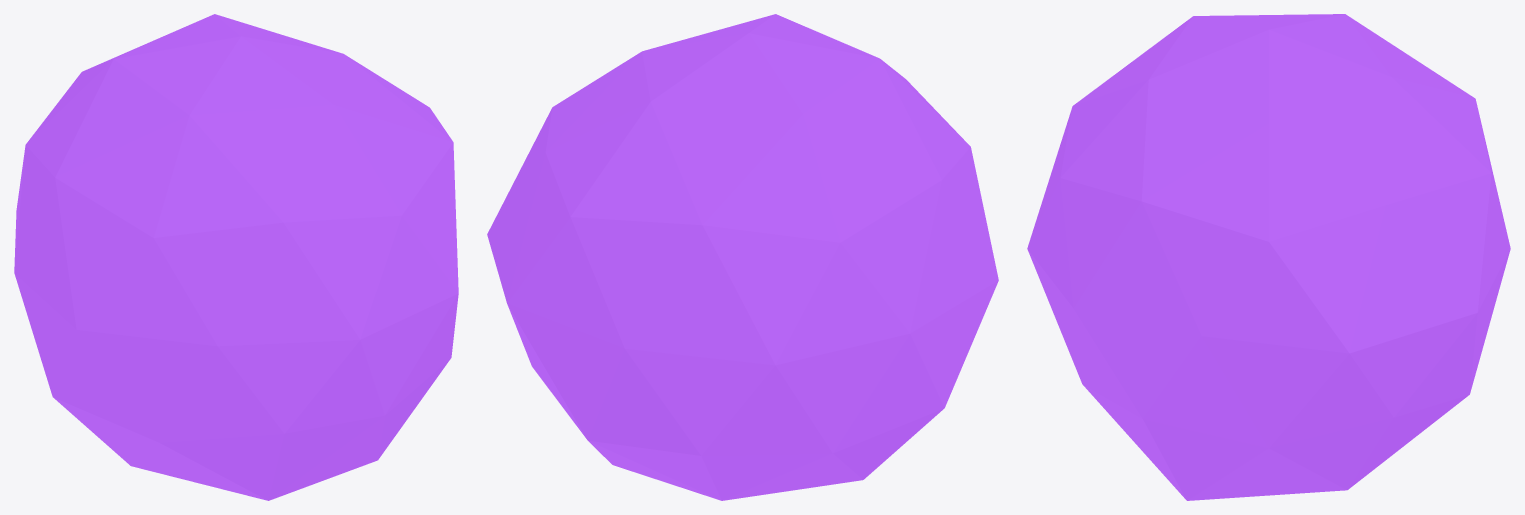
File: nebula.glb
3 views of the same model, side by side, from view 1: azimuth 30°, elevation 25°; view 2: azimuth 150°, elevation 25°; view 3: azimuth 270°, elevation 25° (orthographic). The views are drawn at different scales.
Visible parts, largest first — view 1: Nebula_Outer; view 2: Nebula_Outer; view 3: Nebula_Outer.
Part boxes in pixels (x1,y1,x2,y2): Nebula_Outer: (14, 14, 458, 500); Nebula_Outer: (487, 14, 998, 500); Nebula_Outer: (1027, 14, 1510, 500).
Size of the model in its own units: 2.01 by 2 by 2.
